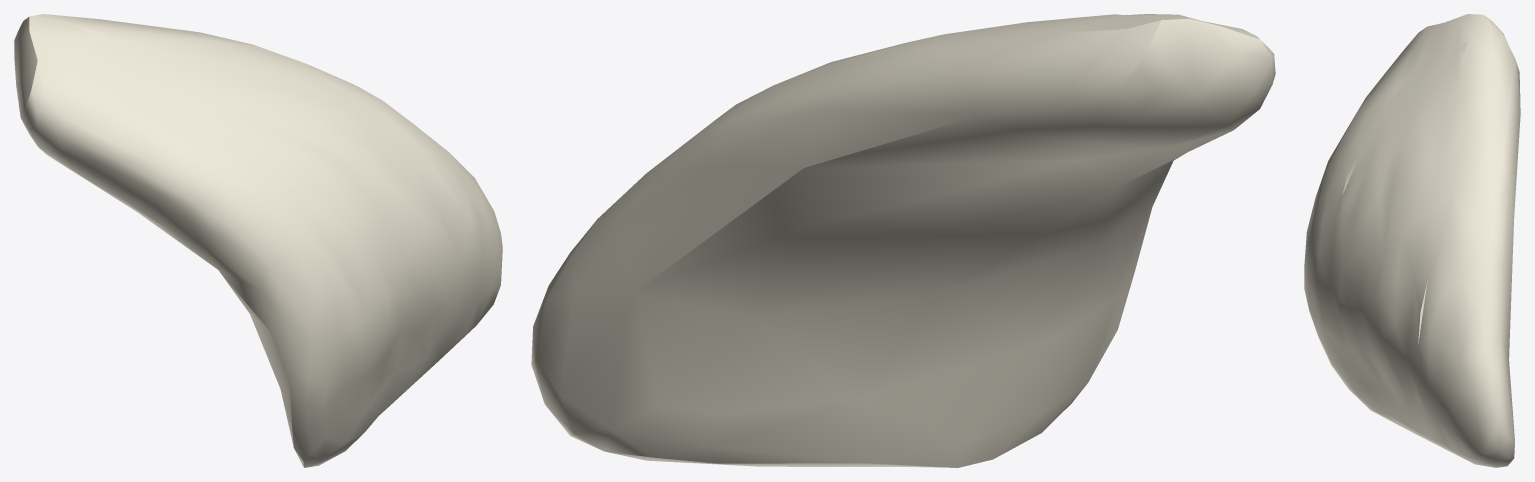
File: fma73183_mm1445m.glb
The picture shows the model from 3 angles, left to right: view 1: azimuth 30°, elevation 25°; view 2: azimuth 150°, elevation 25°; view 3: azimuth 270°, elevation 25°; orthographic projection. The views are drawn at different scales.
Parts seen in each view (by area): view 1: FMA73183_MM1445M; view 2: FMA73183_MM1445M; view 3: FMA73183_MM1445M.
Boxes of the visible parts, x1,y1,x2,y2 form: FMA73183_MM1445M: (14,14,502,467); FMA73183_MM1445M: (531,14,1275,467); FMA73183_MM1445M: (1304,14,1520,467).
Size of the model in its own units: 0.00958 by 0.00785 by 0.00481.
